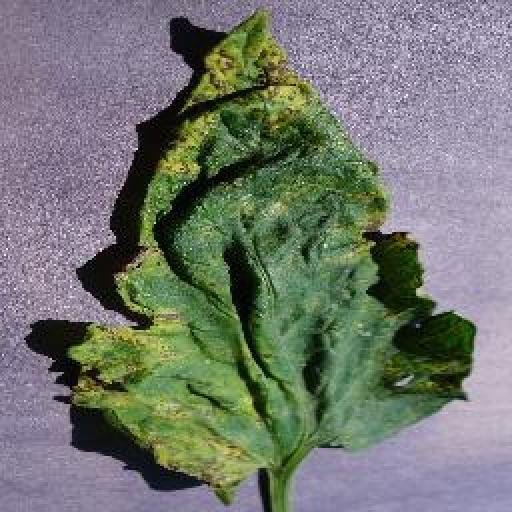Septoria: (67, 8, 479, 485)
